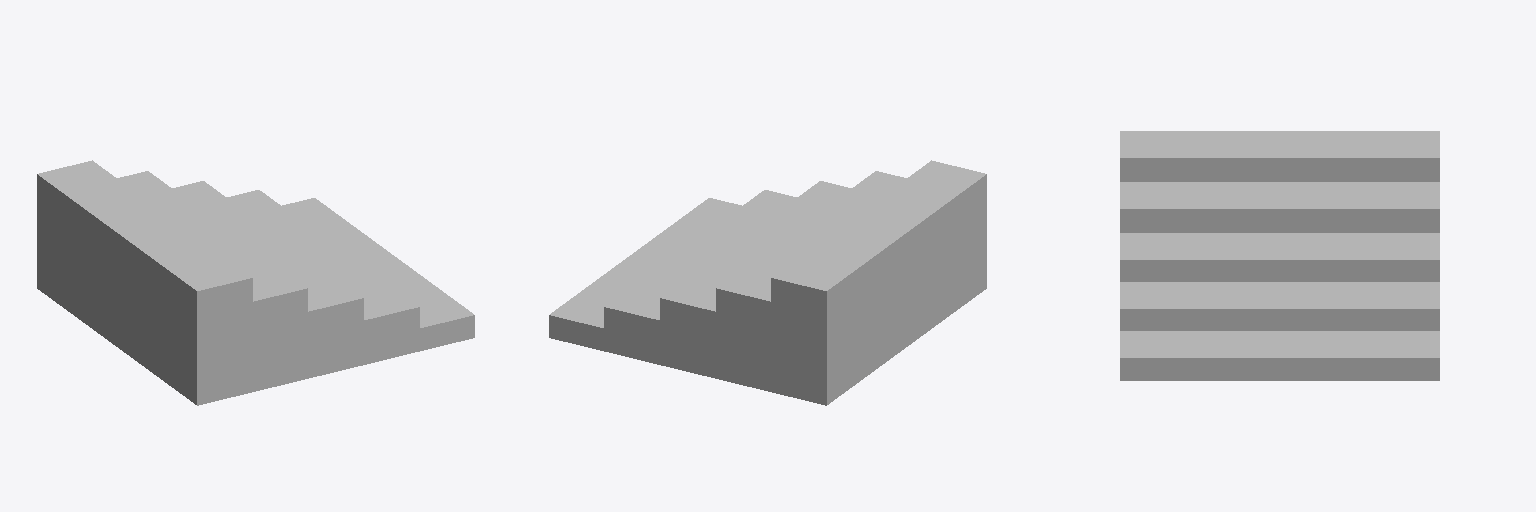
Rendered from my_stairs.obj.
The picture shows the model from 3 angles: view 1: azimuth 30°, elevation 25°; view 2: azimuth 150°, elevation 25°; view 3: azimuth 270°, elevation 25°; orthographic projection.
Visible parts, largest first — view 1: Cube_Cube.002; view 2: Cube_Cube.002; view 3: Cube_Cube.002.
Part boxes in pixels (x1,y1,x2,y2): Cube_Cube.002: (37,160,474,405); Cube_Cube.002: (549,160,986,405); Cube_Cube.002: (1120,131,1439,380).
Size of the model in its own units: 2 by 0.7868 by 2.